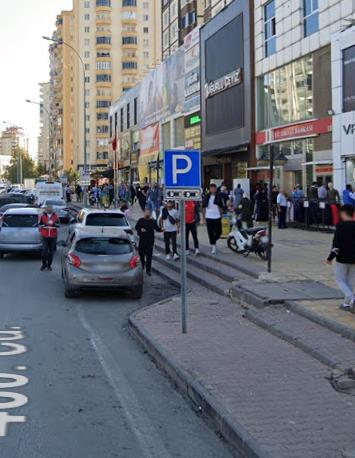park: (166, 150, 201, 187)
